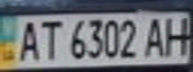0: (103, 16, 121, 60)
2: (118, 16, 142, 60)
3: (84, 16, 106, 60)
6: (63, 16, 87, 61)
A: (12, 18, 42, 62), (142, 15, 169, 58)
H: (160, 14, 193, 57)
T: (36, 17, 66, 61)
